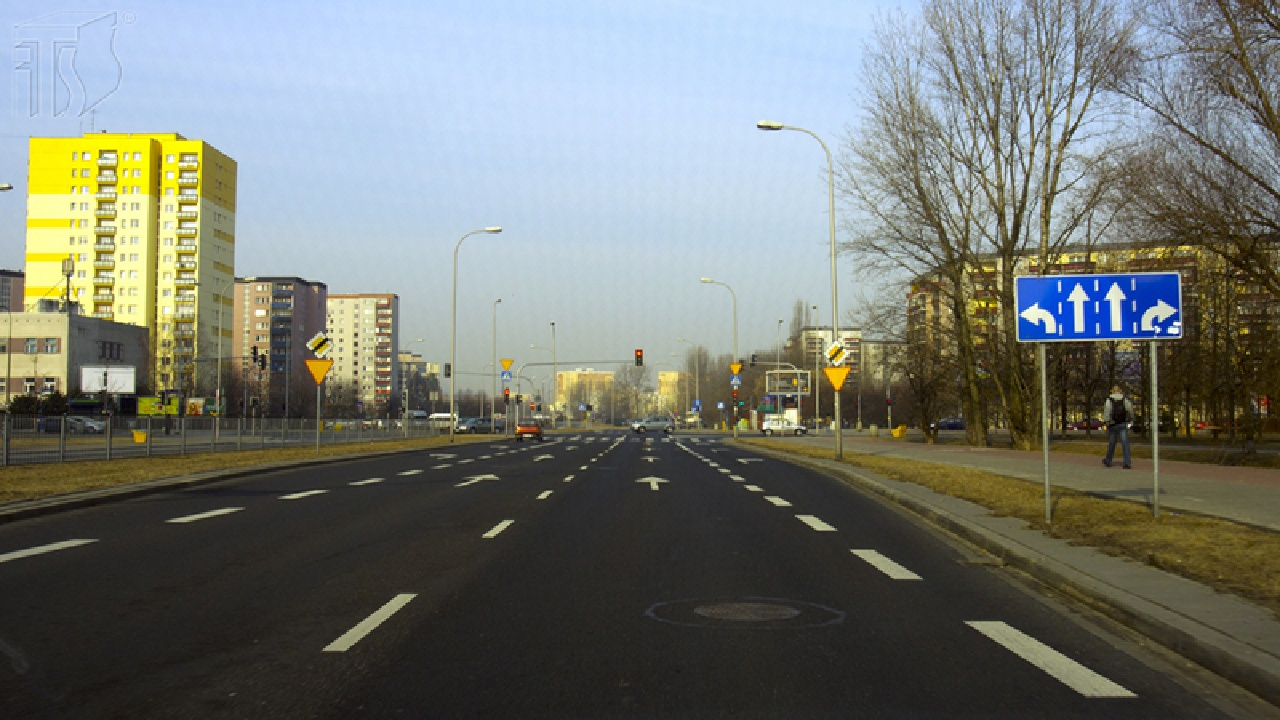A7: (302, 359, 335, 384), (822, 367, 851, 390)
D2: (303, 331, 334, 357), (824, 340, 850, 365)
Red: (635, 349, 643, 366)
